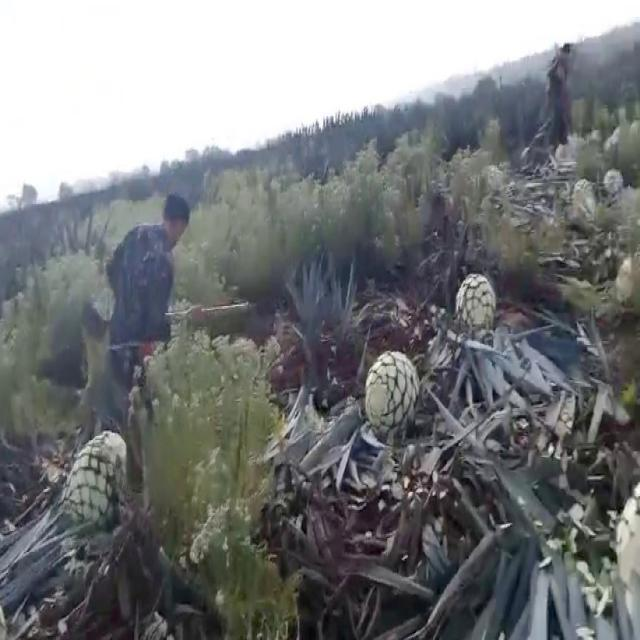agave: (62, 423, 130, 539), (361, 349, 425, 441), (454, 267, 496, 341)
